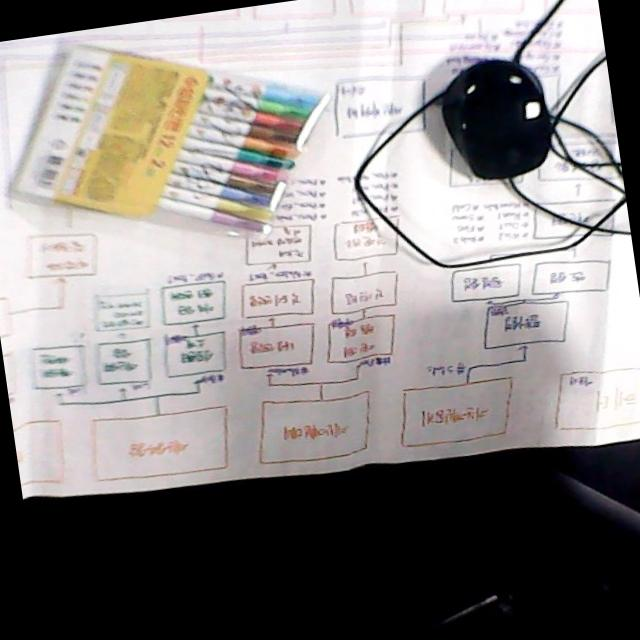mouse: (430, 54, 559, 186)
signpen: (0, 39, 338, 247)
